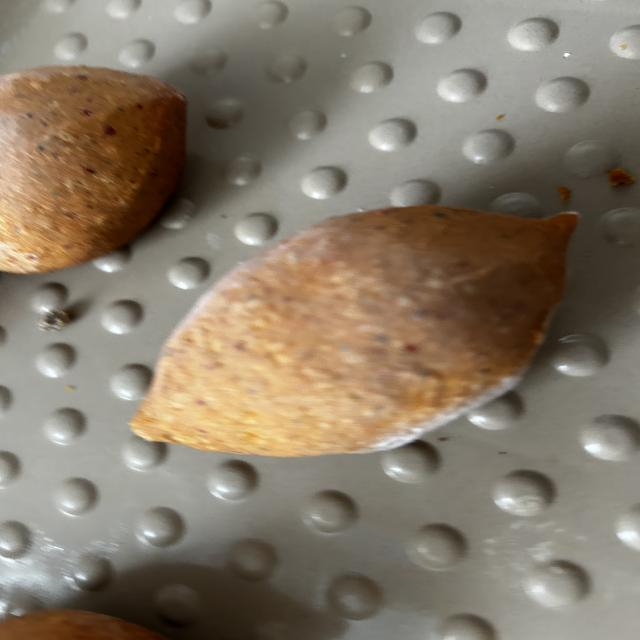kobi: (128, 203, 580, 458), (0, 63, 188, 274)
